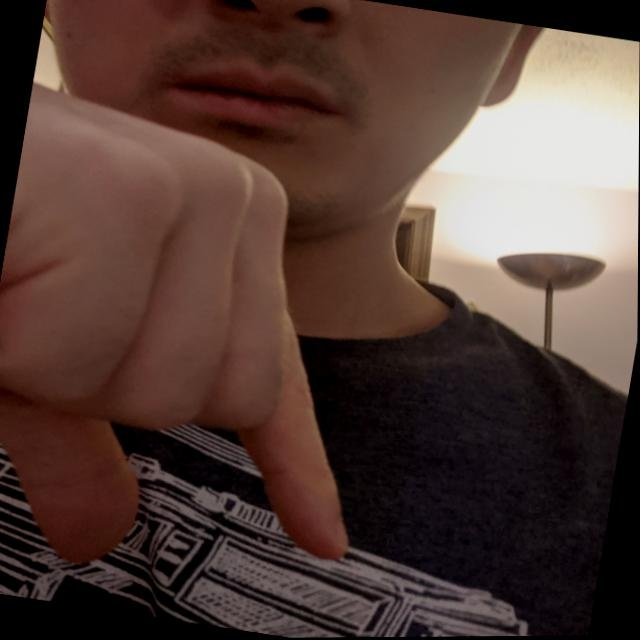Q: (0, 52, 435, 616)
